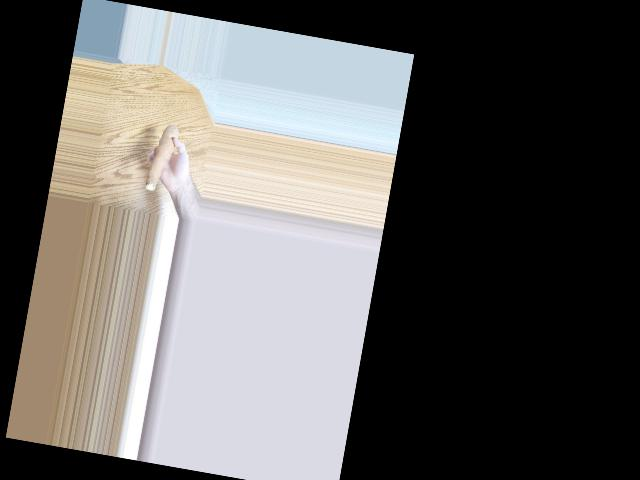sweet_potato: (145, 118, 176, 195)
